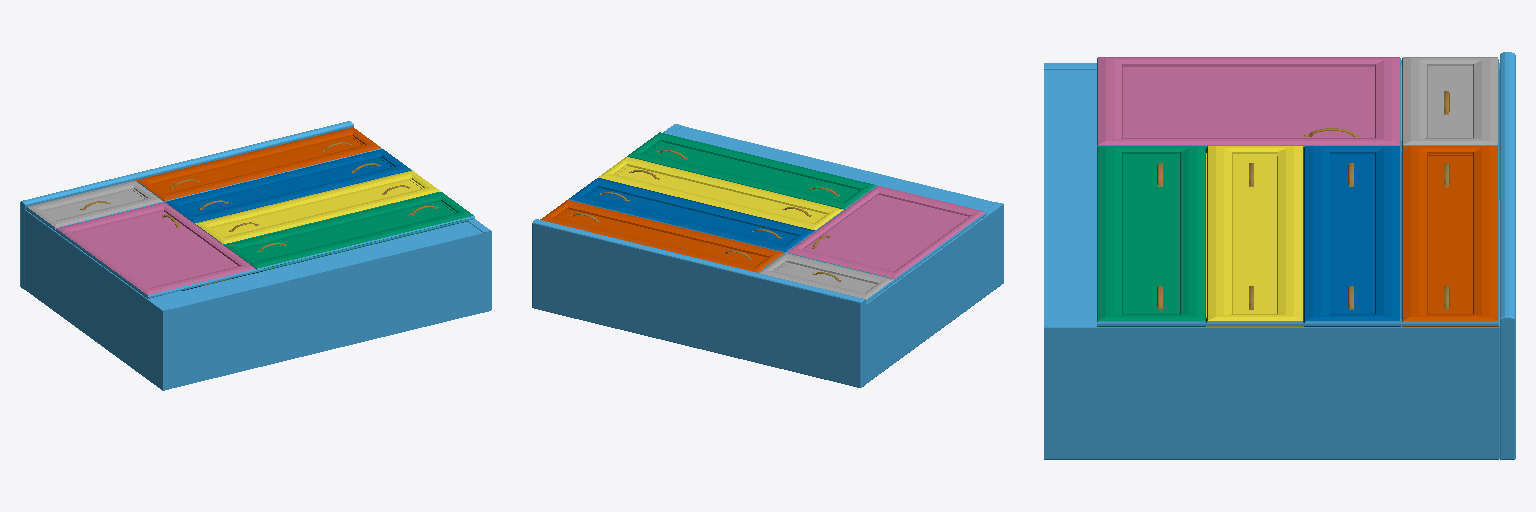
URDF robot description (129):
<robot name="129">


	<link name="0:virtual">
		<visual>
			<origin xyz="0.0 0.0 0.0" rpy="0 0 0"/>
			<geometry>
				<cylinder length="0" radius="0"/>
			</geometry>
		</visual>
	</link>


	<link name="1:static">
		<visual>
			<origin xyz="-0.0 -0.0 -0.0" rpy="0 0 0"/>
			<geometry>
				<mesh filename="raw_data/129/part_meshes/1.dae" />
			</geometry>
		</visual>
	</link>


	<link name="2:drawer 1">
		<visual>
			<origin xyz="-0.19905999302864075 -0.20582934096455574 0.005532495677471161" rpy="0 0 0"/>
			<geometry>
				<mesh filename="raw_data/129/part_meshes/2.dae" />
			</geometry>
		</visual>
	</link>


	<link name="3:drawer 2">
		<visual>
			<origin xyz="-0.19905999302864075 -0.402492493391037 0.005532495677471161" rpy="0 0 0"/>
			<geometry>
				<mesh filename="raw_data/129/part_meshes/3.dae" />
			</geometry>
		</visual>
	</link>


	<link name="4:drawer 3">
		<visual>
			<origin xyz="-0.19905999302864075 -0.5877389907836914 0.005532495677471161" rpy="0 0 0"/>
			<geometry>
				<mesh filename="raw_data/129/part_meshes/4.dae" />
			</geometry>
		</visual>
	</link>


	<link name="5:drawer 4">
		<visual>
			<origin xyz="-0.19855999201536179 -0.7751494944095612 0.005532495677471161" rpy="0 0 0"/>
			<geometry>
				<mesh filename="raw_data/129/part_meshes/5.dae" />
			</geometry>
		</visual>
	</link>


	<link name="6:cabinet door 1">
		<visual>
			<origin xyz="0.5968620181083679 -0.39107634499669075 -0.13301100581884384" rpy="0 0 0"/>
			<geometry>
				<mesh filename="raw_data/129/part_meshes/6.dae" />
			</geometry>
		</visual>
	</link>


	<link name="7:drawer 5">
		<visual>
			<origin xyz="0.39788150787353516 -0.7751494944095612 0.005532495677471161" rpy="0 0 0"/>
			<geometry>
				<mesh filename="raw_data/129/part_meshes/7.dae" />
			</geometry>
		</visual>
	</link>


	<joint name="0:virtual::1:static" type="fixed">
		<parent link="0:virtual"/>
		<child link="1:static"/>
		<origin xyz="0.0 0.0 0.0" rpy="0 0 0"/>
	</joint>


	<joint name="0:virtual::2:drawer 1_translation" type="prismatic">
		<parent link="0:virtual"/>
		<child link="2:drawer 1"/>
		<origin xyz="0.19905999302864075 0.20582934096455574 -0.005532495677471161" rpy="0 0 0"/>
		<limit lower="-0.0001015064716339" upper="0.235898493528366" effort="10" velocity="3"/>
		<axis xyz="0.0 0.0 1.0"/>
	</joint>


	<joint name="0:virtual::3:drawer 2_translation" type="prismatic">
		<parent link="0:virtual"/>
		<child link="3:drawer 2"/>
		<origin xyz="0.19905999302864075 0.402492493391037 -0.005532495677471161" rpy="0 0 0"/>
		<limit lower="-0.0001015064716339" upper="0.235898493528366" effort="10" velocity="3"/>
		<axis xyz="0.0 0.0 1.0"/>
	</joint>


	<joint name="0:virtual::4:drawer 3_translation" type="prismatic">
		<parent link="0:virtual"/>
		<child link="4:drawer 3"/>
		<origin xyz="0.19905999302864075 0.5877389907836914 -0.005532495677471161" rpy="0 0 0"/>
		<limit lower="-0.0001015064716339" upper="0.235898493528366" effort="10" velocity="3"/>
		<axis xyz="0.0 0.0 1.0"/>
	</joint>


	<joint name="0:virtual::5:drawer 4_translation" type="prismatic">
		<parent link="0:virtual"/>
		<child link="5:drawer 4"/>
		<origin xyz="0.19855999201536179 0.7751494944095612 -0.005532495677471161" rpy="0 0 0"/>
		<limit lower="-0.0001015064716339" upper="0.235898493528366" effort="10" velocity="3"/>
		<axis xyz="0.0 0.0 1.0"/>
	</joint>


	<joint name="0:virtual::6:cabinet door 1_rotation" type="revolute">
		<parent link="0:virtual"/>
		<child link="6:cabinet door 1"/>
		<origin xyz="-0.5968620181083679 0.39107634499669075 0.13301100581884384" rpy="0 0 0"/>
		<limit lower="-3.0473448739820994" upper="0.0" effort="10" velocity="3"/>
		<axis xyz="0.0 1.0 0.0"/>
	</joint>


	<joint name="0:virtual::7:drawer 5_translation" type="prismatic">
		<parent link="0:virtual"/>
		<child link="7:drawer 5"/>
		<origin xyz="-0.39788150787353516 0.7751494944095612 -0.005532495677471161" rpy="0 0 0"/>
		<limit lower="-0.0001015064716339" upper="0.235898493528366" effort="10" velocity="3"/>
		<axis xyz="0.0 0.0 1.0"/>
	</joint>


</robot>

--- What the picture shows (computed from the rendered views, not written in the file) ---
The picture shows the robot from 3 angles, left to right: view 1: azimuth 30°, elevation 25°; view 2: azimuth 150°, elevation 25°; view 3: azimuth 270°, elevation 25°; orthographic projection.
Model 129 with 8 links and 7 joints (1 revolute, 5 prismatic, 1 fixed), rooted at 0:virtual, posed every joint at zero.
Links seen in each view (by area): view 1: 1:static, 6:cabinet door 1, 2:drawer 1, 4:drawer 3, 3:drawer 2, 5:drawer 4, 7:drawer 5; view 2: 1:static, 6:cabinet door 1, 2:drawer 1, 4:drawer 3, 3:drawer 2, 5:drawer 4, 7:drawer 5; view 3: 1:static, 6:cabinet door 1, 2:drawer 1, 4:drawer 3, 3:drawer 2, 5:drawer 4, 7:drawer 5.
Link boxes in pixels (x1=…): 1:static: x1=20, y1=121, x2=491, y2=390; 6:cabinet door 1: x1=56, y1=202, x2=254, y2=298; 2:drawer 1: x1=224, y1=192, x2=473, y2=278; 4:drawer 3: x1=166, y1=149, x2=411, y2=290; 3:drawer 2: x1=195, y1=170, x2=440, y2=285; 5:drawer 4: x1=136, y1=127, x2=380, y2=200; 7:drawer 5: x1=28, y1=181, x2=162, y2=227; 1:static: x1=532, y1=124, x2=1003, y2=387; 6:cabinet door 1: x1=787, y1=186, x2=984, y2=278; 2:drawer 1: x1=627, y1=132, x2=876, y2=209; 4:drawer 3: x1=569, y1=178, x2=814, y2=251; 3:drawer 2: x1=598, y1=157, x2=843, y2=229; 5:drawer 4: x1=540, y1=200, x2=783, y2=272; 7:drawer 5: x1=759, y1=253, x2=893, y2=299; 1:static: x1=1044, y1=52, x2=1515, y2=459; 6:cabinet door 1: x1=1098, y1=57, x2=1399, y2=144; 2:drawer 1: x1=1097, y1=146, x2=1207, y2=326; 4:drawer 3: x1=1303, y1=146, x2=1400, y2=326; 3:drawer 2: x1=1206, y1=146, x2=1303, y2=326; 5:drawer 4: x1=1401, y1=146, x2=1498, y2=326; 7:drawer 5: x1=1401, y1=57, x2=1497, y2=144.
Size in the robot's own frame: 1.2 by 0.9 by 0.3044 metres.
Meshes: 7 distinct files referenced, 7 mesh visuals loaded (7 Collada DAE).